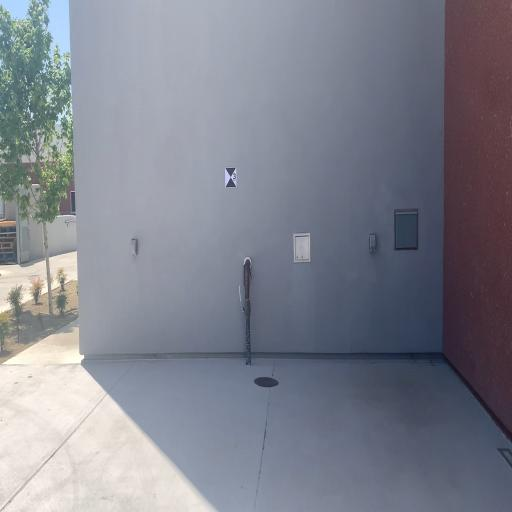target3: (224, 166, 237, 188)
